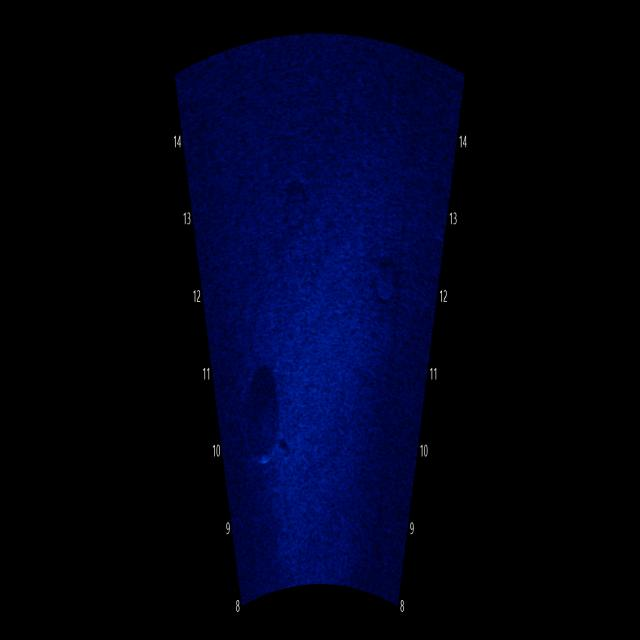circle: (240, 357, 298, 472)
